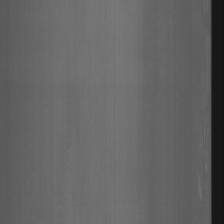silk_spot: (194, 121, 210, 204)
